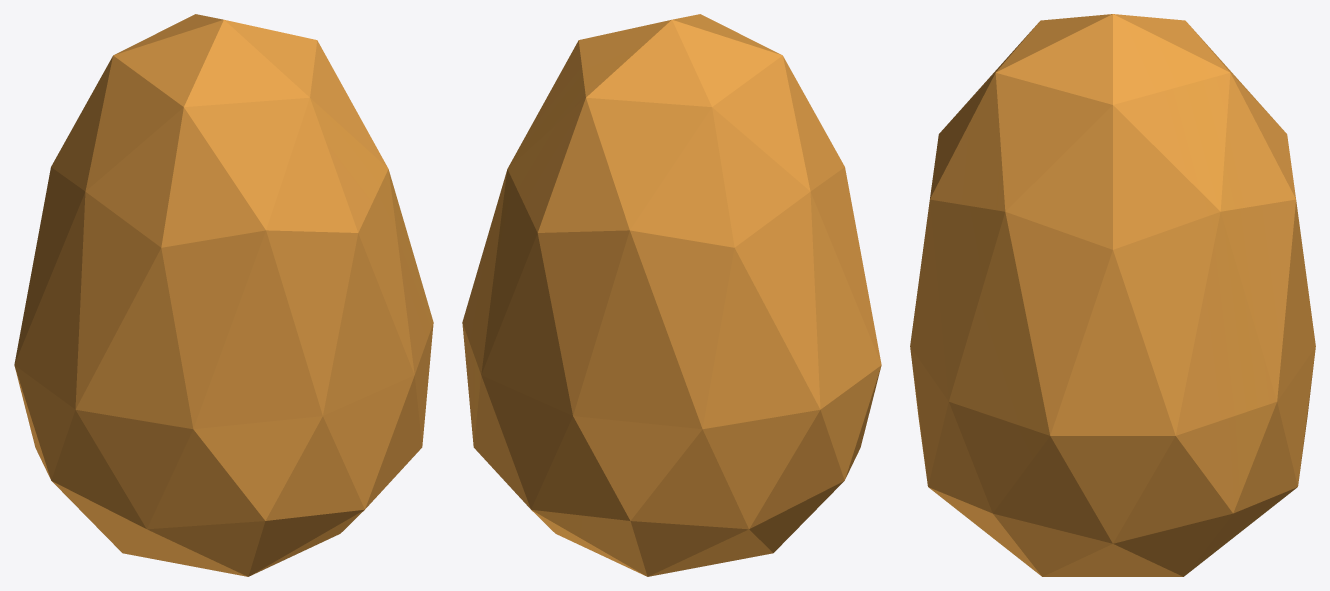
The model's file is egg.fbx.
The picture shows the model from 3 angles, left to right: view 1: azimuth 30°, elevation 25°; view 2: azimuth 150°, elevation 25°; view 3: azimuth 270°, elevation 25°; orthographic projection. The views are drawn at different scales.
Visible parts, largest first — view 1: Icosphere; view 2: Icosphere; view 3: Icosphere.
Part boxes in pixels (x1,y1,x2,y2): Icosphere: (14,14,433,576); Icosphere: (462,14,881,576); Icosphere: (910,14,1315,576).
Bounding box in the file's own units: 44.79 × 64.79 × 42.86.
Materials: 1 (1 with a texture image).
